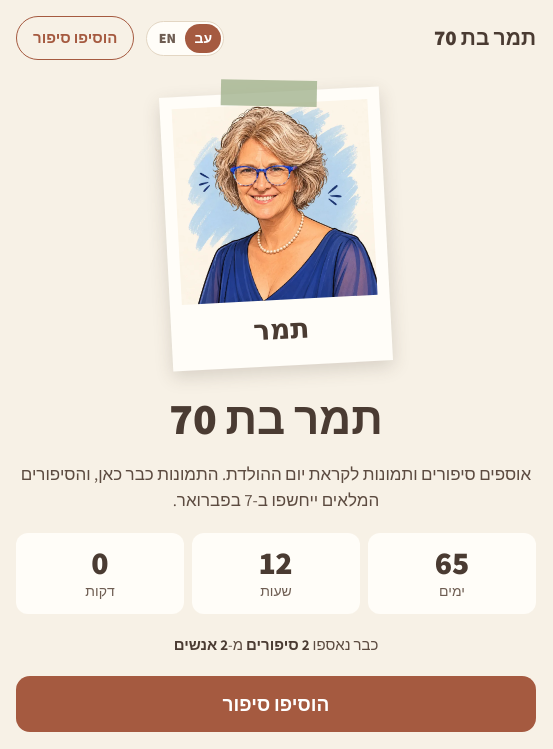
Test case: the English site › switches to English and back, and remembers the choice
Expected: the text "כבר נאספו 2 סיפורים מ-2 אנשים" is shown, [174,634,378,656]
Click the button with aria-label "English": (167, 38) [149,24,185,52]
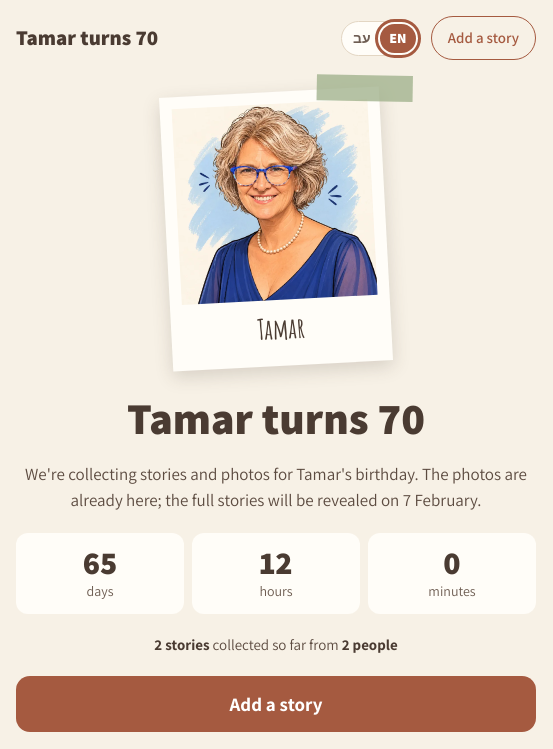
Now the heading "Tamar turns 70" is shown, box [127,394,425,442]
Now the text "2 stories collected so far from 2 people" is shown, box [154,634,398,656]
Now the element named "Time left until the birthday" shows "days", box [86,582,114,600]
Click the button with aria-label "עברית": (362, 38) [344,24,380,52]
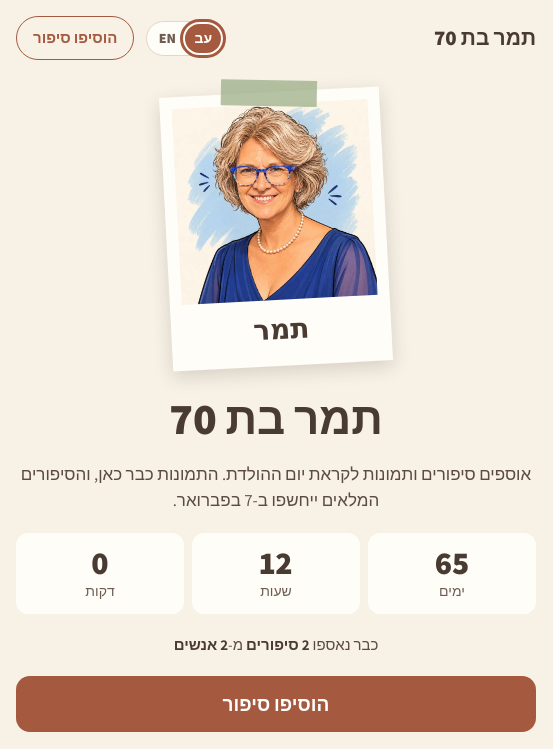
Now the heading "תמר בת 70" is shown, box [169,394,383,442]
